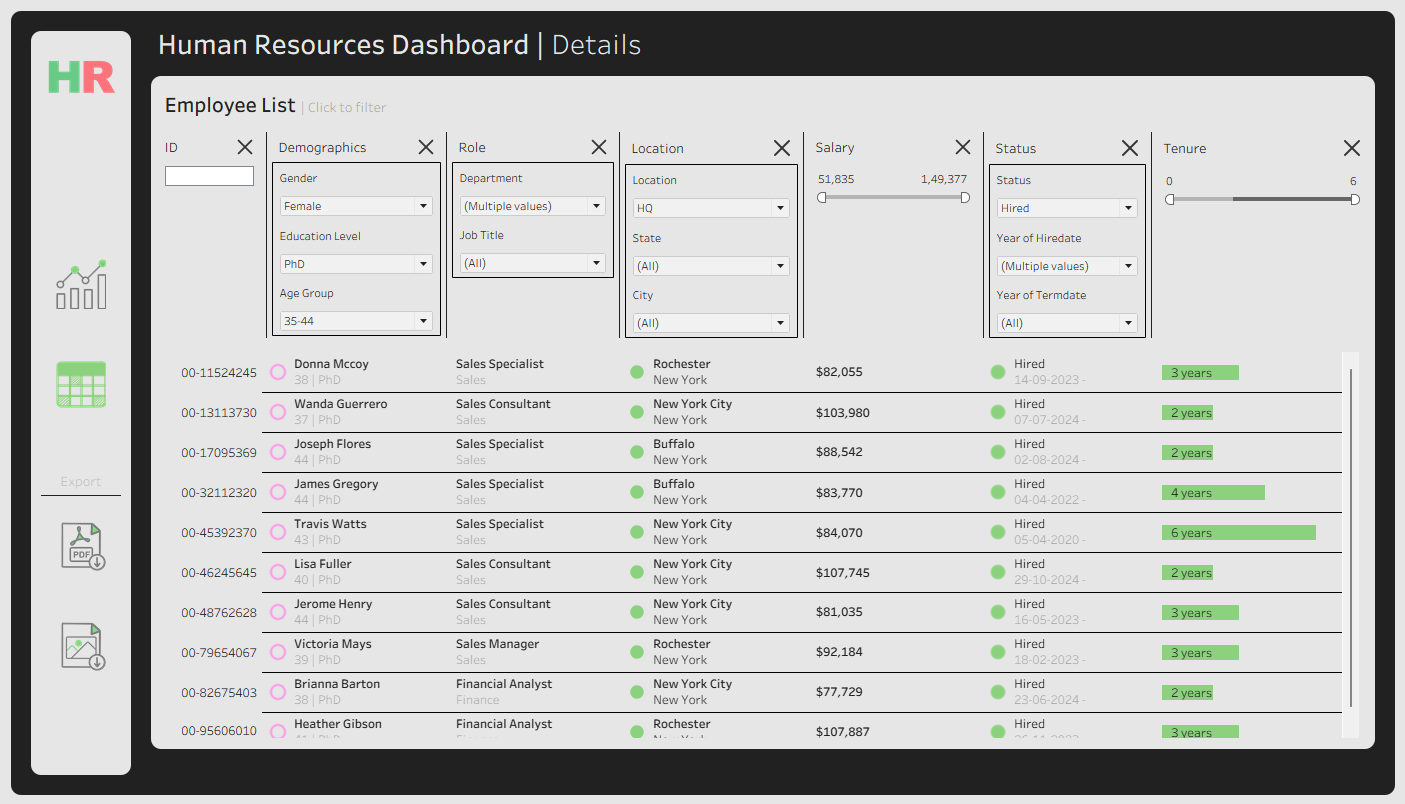

What the dashboard file says about the page in this screenshot:
{"tool":"tableau","page":{"name":"Details Dashboard","canvas":[1400,800],"ordinal":0},"visuals":[{"type":"text","box":[148,8,1224,65]},{"type":"image","param":"Image/Logo.png","box":[28,28,100,92]},{"type":"text","box":[155,80,1210,49]},{"type":"blank","box":[28,120,100,111]},{"type":"text","box":[155,129,71,30]},{"type":"dashboard-object","box":[226,129,32,30]},{"type":"blank","box":[258,129,11,32]},{"type":"text","box":[269,129,139,30]},{"type":"dashboard-object","box":[408,129,30,30]},{"type":"blank","box":[438,129,11,32]},{"type":"text","box":[449,129,132,30]},{"type":"dashboard-object","box":[581,129,30,30]},{"type":"blank","box":[611,129,11,32]},{"type":"text","box":[622,129,141,32]},{"type":"dashboard-object","box":[762.9,129,32,32]},{"type":"blank","box":[794.9,129,11,32]},{"type":"text","box":[805.9,129,139,30]},{"type":"dashboard-object","box":[944.9,129,30,30]},{"type":"blank","box":[974.9,129,11,32]},{"type":"text","box":[985.9,129,125,32]},{"type":"dashboard-object","box":[1110.9,129,32,32]},{"type":"blank","box":[1142.9,129,11,32]},{"type":"text","box":[1153.9,129,179.1,32]},{"type":"dashboard-object","box":[1333,129,32,32]},{"type":"filter","title":"Detailed","param":"[federated.0yob5cm1xo00br10v5j7d03hux97].[none:Employee_ID:nk]","box":[155,159,103,31]},{"type":"text","box":[269,159,169,29]},{"type":"text","box":[449,159,162,29]},{"type":"filter","title":"Detailed","param":"[federated.0yob5cm1xo00br10v5j7d03hux97].[sum:Salary:qk]","box":[806,159,169,51]},{"type":"text","box":[622,161,173,29]},{"type":"text","box":[986,161,157,29]},{"type":"filter","title":"Detailed","param":"[federated.0yob5cm1xo00br10v5j7d03hux97].[sum:Age (copy)_1034983924961281:qk]","box":[1153.9,161,211.1,51]},{"type":"worksheet","title":"Detailed","mark":"Shape","rows":["Employee_ID"],"cols":["Calculation_1034983929458696","Calculation_1034983929458696","Calculation_1034983929458696","Calculation_1034983929458696","Calculation_1034983929458696","Age (copy)_1034983924961281"],"box":[155,171,1210,594]},{"type":"filter","title":"Detailed","param":"[federated.0yob5cm1xo00br10v5j7d03hux97].[none:Gender:nk]","box":[269,188,169,29]},{"type":"filter","title":"Detailed","param":"[federated.0yob5cm1xo00br10v5j7d03hux97].[none:Department:nk]","box":[449,188,162,29]},{"type":"filter","title":"Detailed","param":"[federated.0yob5cm1xo00br10v5j7d03hux97].[none:Calculation_0565766967013379:nk]","box":[622,190,173,29]},{"type":"filter","title":"Detailed","param":"[federated.0yob5cm1xo00br10v5j7d03hux97].[none:Calculation_0983581678112768:nk]","box":[986,190,157,29]},{"type":"text","box":[269,217,169,29]},{"type":"text","box":[449,217,162,29]},{"type":"text","box":[622,219,173,29]},{"type":"text","box":[986,219,157,29]},{"type":"dashboard-object","box":[28,231,100,100]},{"type":"filter","title":"Detailed","param":"[federated.0yob5cm1xo00br10v5j7d03hux97].[none:Education Level:nk]","box":[269,246,169,29]},{"type":"filter","title":"Detailed","param":"[federated.0yob5cm1xo00br10v5j7d03hux97].[none:Job Title:nk]","box":[449,246,162,29]},{"type":"filter","title":"Detailed","param":"[federated.0yob5cm1xo00br10v5j7d03hux97].[none:State:nk]","box":[622,248,173,29]},{"type":"filter","title":"Detailed","param":"[federated.0yob5cm1xo00br10v5j7d03hux97].[yr:Hiredate:ok]","box":[986,248,157,29]},{"type":"text","box":[269,275,169,29]},{"type":"text","box":[622,277,173,29]},{"type":"text","box":[986,277,157,29]},{"type":"filter","title":"Detailed","param":"[federated.0yob5cm1xo00br10v5j7d03hux97].[none:Calculation_0565766976552970:nk]","box":[269,304,169,29]},{"type":"filter","title":"Detailed","param":"[federated.0yob5cm1xo00br10v5j7d03hux97].[none:City:nk]","box":[622,306,173,29]},{"type":"filter","title":"Detailed","param":"[federated.0yob5cm1xo00br10v5j7d03hux97].[yr:Termdate:ok]","box":[986,306,157,29]},{"type":"dashboard-object","box":[28,331,100,100]},{"type":"blank","box":[28,431,100,29]},{"type":"text","box":[28,460,100,32]},{"type":"blank","box":[28,492,100,1]},{"type":"dashboard-object","box":[28,493,100,100]},{"type":"dashboard-object","box":[28,593,100,100]}]}

Visuals, with their boxes in screenshot pixels (x1, y1, x2, y2), scaled from the page's 1400x800 canvas onto the 1405x804 screenshot:
text: <bbox>149, 8, 1377, 73</bbox>
image: <bbox>28, 28, 128, 121</bbox>
text: <bbox>156, 80, 1370, 130</bbox>
blank: <bbox>28, 121, 128, 232</bbox>
text: <bbox>156, 130, 227, 160</bbox>
dashboard-object: <bbox>227, 130, 259, 160</bbox>
blank: <bbox>259, 130, 270, 162</bbox>
text: <bbox>270, 130, 409, 160</bbox>
dashboard-object: <bbox>409, 130, 440, 160</bbox>
blank: <bbox>440, 130, 451, 162</bbox>
text: <bbox>451, 130, 583, 160</bbox>
dashboard-object: <bbox>583, 130, 613, 160</bbox>
blank: <bbox>613, 130, 624, 162</bbox>
text: <bbox>624, 130, 766, 162</bbox>
dashboard-object: <bbox>766, 130, 798, 162</bbox>
blank: <bbox>798, 130, 809, 162</bbox>
text: <bbox>809, 130, 948, 160</bbox>
dashboard-object: <bbox>948, 130, 978, 160</bbox>
blank: <bbox>978, 130, 989, 162</bbox>
text: <bbox>989, 130, 1115, 162</bbox>
dashboard-object: <bbox>1115, 130, 1147, 162</bbox>
blank: <bbox>1147, 130, 1158, 162</bbox>
text: <bbox>1158, 130, 1338, 162</bbox>
dashboard-object: <bbox>1338, 130, 1370, 162</bbox>
"Detailed" filter: <bbox>156, 160, 259, 191</bbox>
text: <bbox>270, 160, 440, 189</bbox>
text: <bbox>451, 160, 613, 189</bbox>
"Detailed" filter: <bbox>809, 160, 978, 211</bbox>
text: <bbox>624, 162, 798, 191</bbox>
text: <bbox>990, 162, 1147, 191</bbox>
"Detailed" filter: <bbox>1158, 162, 1370, 213</bbox>
"Detailed" worksheet (Shape marks): <bbox>156, 172, 1370, 769</bbox>
"Detailed" filter: <bbox>270, 189, 440, 218</bbox>
"Detailed" filter: <bbox>451, 189, 613, 218</bbox>
"Detailed" filter: <bbox>624, 191, 798, 220</bbox>
"Detailed" filter: <bbox>990, 191, 1147, 220</bbox>
text: <bbox>270, 218, 440, 247</bbox>
text: <bbox>451, 218, 613, 247</bbox>
text: <bbox>624, 220, 798, 249</bbox>
text: <bbox>990, 220, 1147, 249</bbox>
dashboard-object: <bbox>28, 232, 128, 333</bbox>
"Detailed" filter: <bbox>270, 247, 440, 276</bbox>
"Detailed" filter: <bbox>451, 247, 613, 276</bbox>
"Detailed" filter: <bbox>624, 249, 798, 278</bbox>
"Detailed" filter: <bbox>990, 249, 1147, 278</bbox>
text: <bbox>270, 276, 440, 306</bbox>
text: <bbox>624, 278, 798, 308</bbox>
text: <bbox>990, 278, 1147, 308</bbox>
"Detailed" filter: <bbox>270, 306, 440, 335</bbox>
"Detailed" filter: <bbox>624, 308, 798, 337</bbox>
"Detailed" filter: <bbox>990, 308, 1147, 337</bbox>
dashboard-object: <bbox>28, 333, 128, 433</bbox>
blank: <bbox>28, 433, 128, 462</bbox>
text: <bbox>28, 462, 128, 494</bbox>
blank: <bbox>28, 494, 128, 495</bbox>
dashboard-object: <bbox>28, 495, 128, 596</bbox>
dashboard-object: <bbox>28, 596, 128, 696</bbox>
